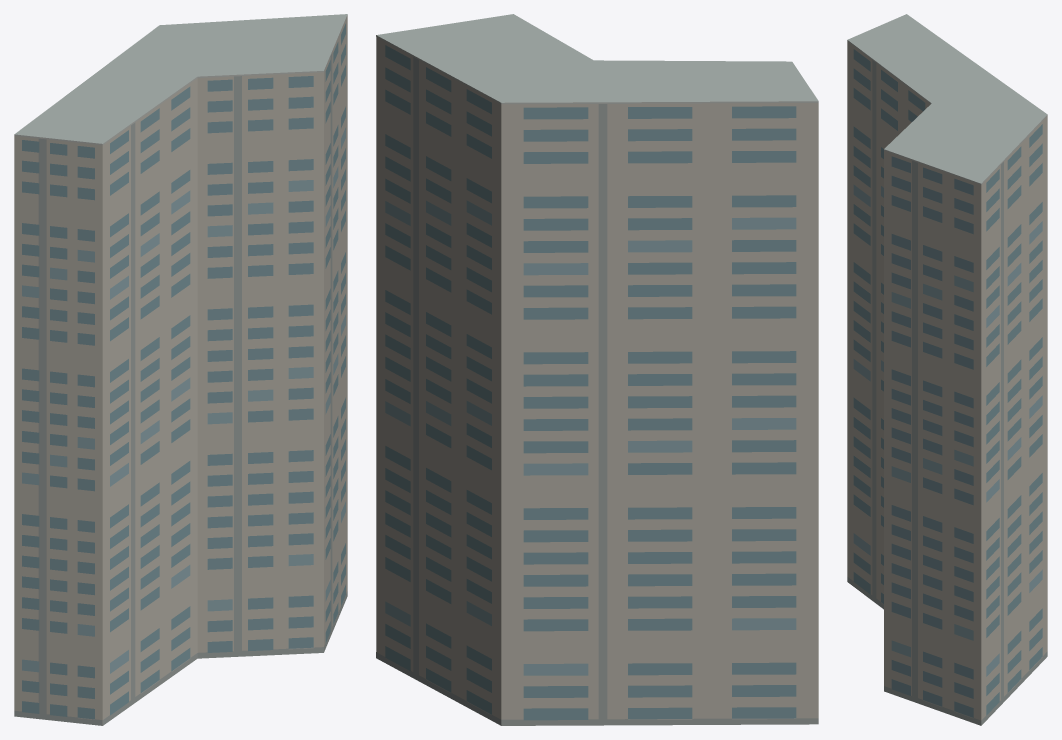
The model's file is residential-90cb7e84-0dba-47d1-b30b-65488f9a89ce.glb.
3 renders of one model, left to right at view 1: azimuth 30°, elevation 25°; view 2: azimuth 150°, elevation 25°; view 3: azimuth 270°, elevation 25°, orthographic. The views are drawn at different scales.
Parts seen in each view (by area): view 1: residential-90cb7e84-0dba-47d1-b30b-65488f9a89ce.tmp; view 2: residential-90cb7e84-0dba-47d1-b30b-65488f9a89ce.tmp; view 3: residential-90cb7e84-0dba-47d1-b30b-65488f9a89ce.tmp.
Boxes of the visible parts, left/top/right/bottom form: residential-90cb7e84-0dba-47d1-b30b-65488f9a89ce.tmp: left=14, top=14, right=347, bottom=725; residential-90cb7e84-0dba-47d1-b30b-65488f9a89ce.tmp: left=376, top=14, right=818, bottom=725; residential-90cb7e84-0dba-47d1-b30b-65488f9a89ce.tmp: left=847, top=14, right=1047, bottom=725.
Size of the model in its own units: 62.46 by 93 by 31.14.
